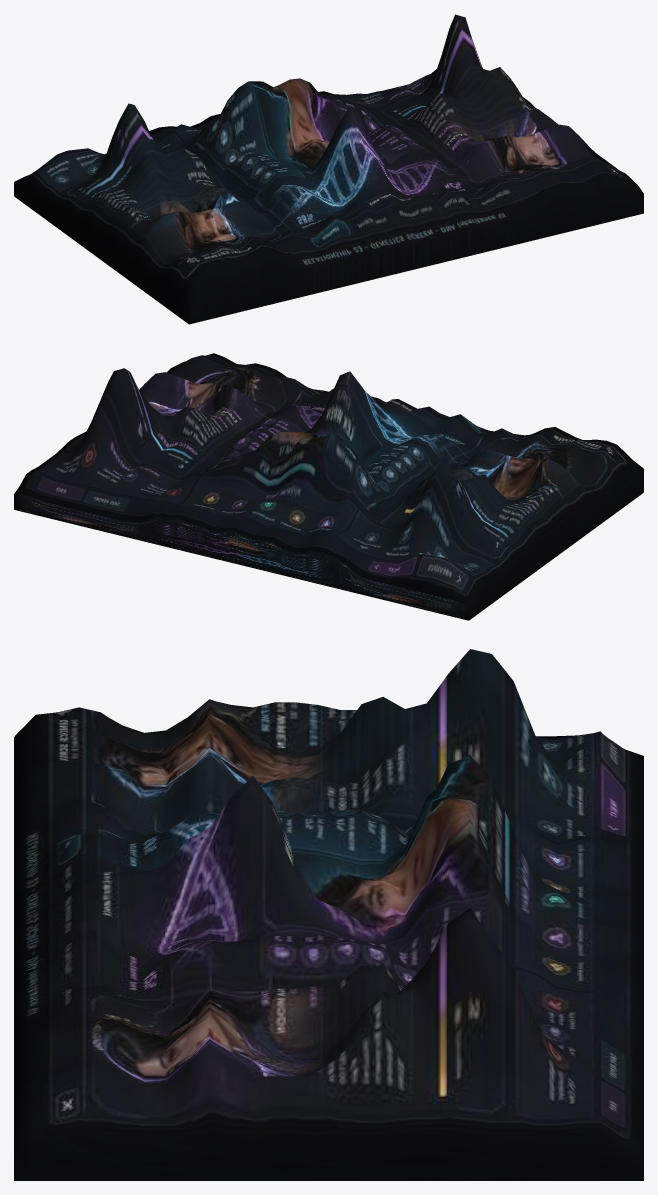
Rendered from RELATIONSHIP_23_Genetics_Screen.glb.
3 views of the same model, one above another, from view 1: azimuth 30°, elevation 25°; view 2: azimuth 150°, elevation 25°; view 3: azimuth 270°, elevation 25° (orthographic). The views are drawn at different scales.
Parts seen in each view (by area): view 1: RELATIONSHIP_23_Genetics_Screen; view 2: RELATIONSHIP_23_Genetics_Screen; view 3: RELATIONSHIP_23_Genetics_Screen.
Boxes of the visible parts, <box> form: RELATIONSHIP_23_Genetics_Screen: <box>14,14,643,324</box>; RELATIONSHIP_23_Genetics_Screen: <box>14,353,643,620</box>; RELATIONSHIP_23_Genetics_Screen: <box>14,649,643,1180</box>.
Size of the model in its own units: 2 by 0.51 by 1.33.
1 material, 1 textured.
